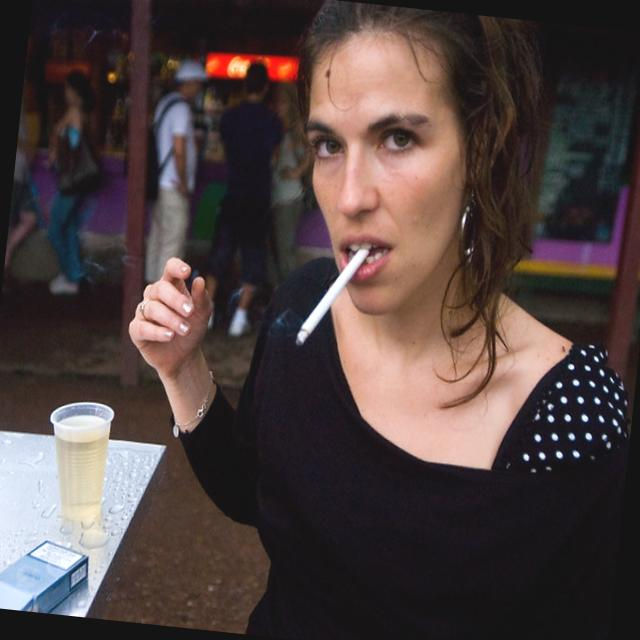smoke: (293, 240, 372, 354)
